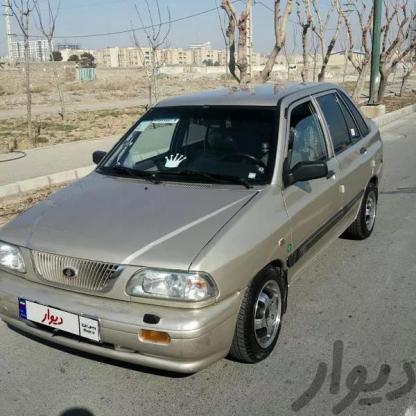Car: (0, 83, 385, 392)
